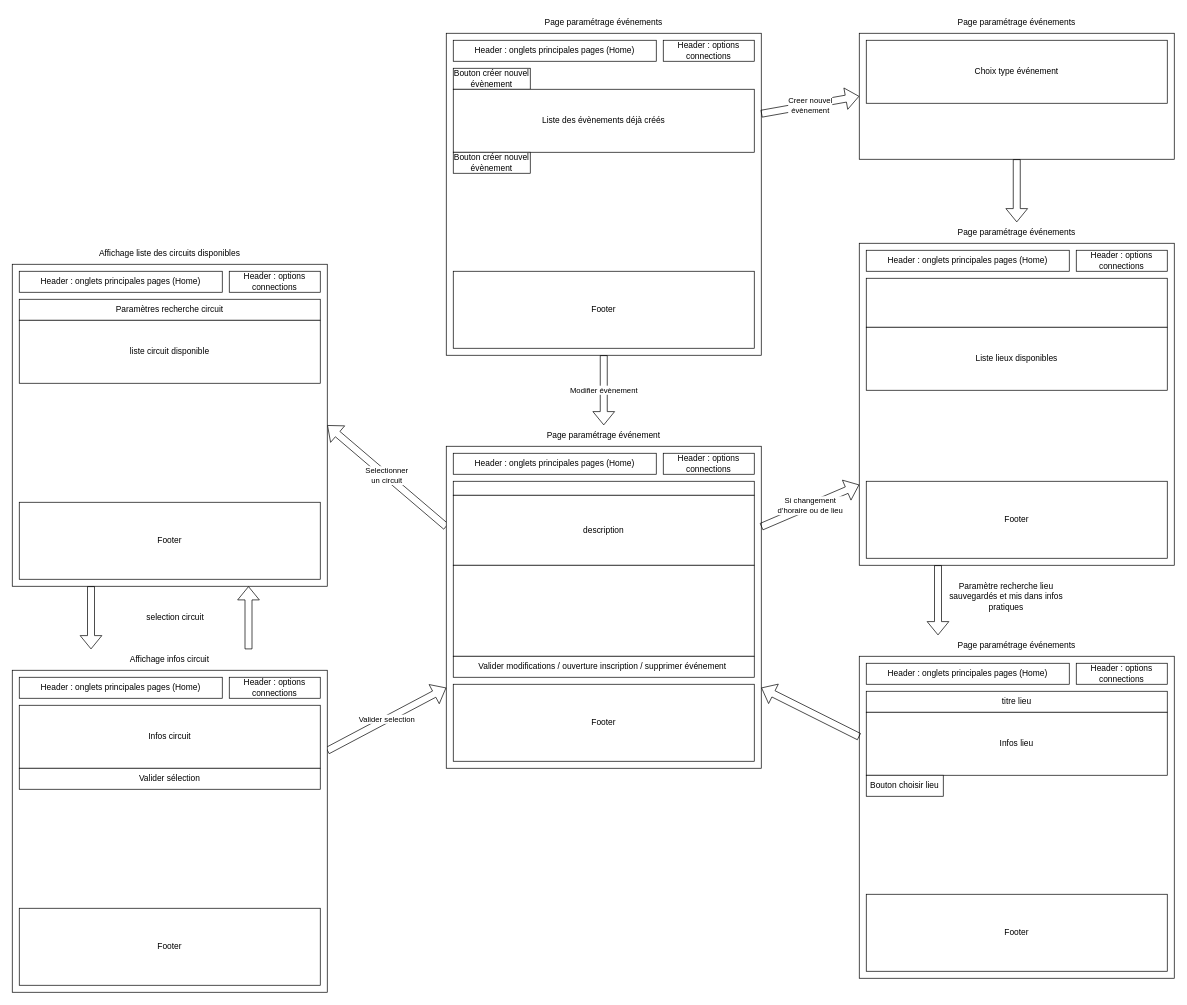
Image size: 1187x1005. Some labels were removed from this diagram. The shapes that lost their labels are listed below. From the top down, each one's centre as x and y in pixels, then its label:
the point at 1016,302: Paramètres recherche lieu - date de l'évènement
the point at 603,488: type événement : titre événement
the point at 603,610: infos pratiques : - date - lieu
